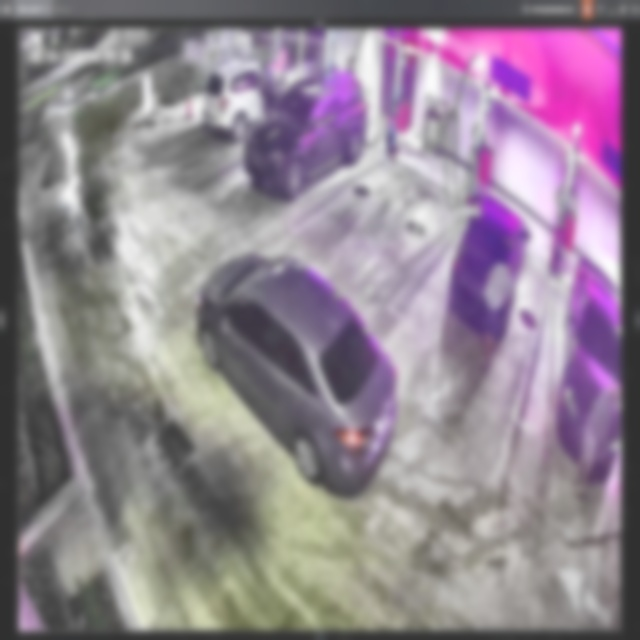Car: (195, 245, 397, 494), (243, 71, 369, 198), (450, 186, 528, 344)
